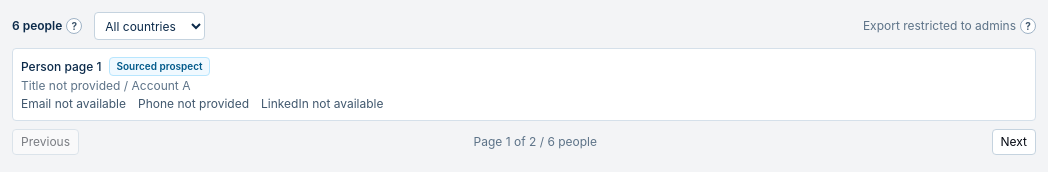
keeps the account-card contact preview bounded to five people per page
Click the button "Next": (1014, 142) x1=992 y1=129 x2=1036 y2=155
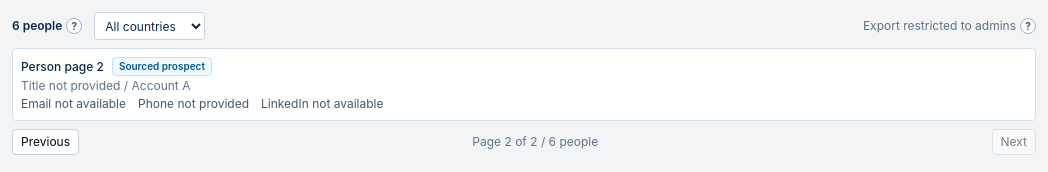
Expected: the text "Page 2 of 2 / 6 people" is shown, x1=472 y1=134 x2=598 y2=150
